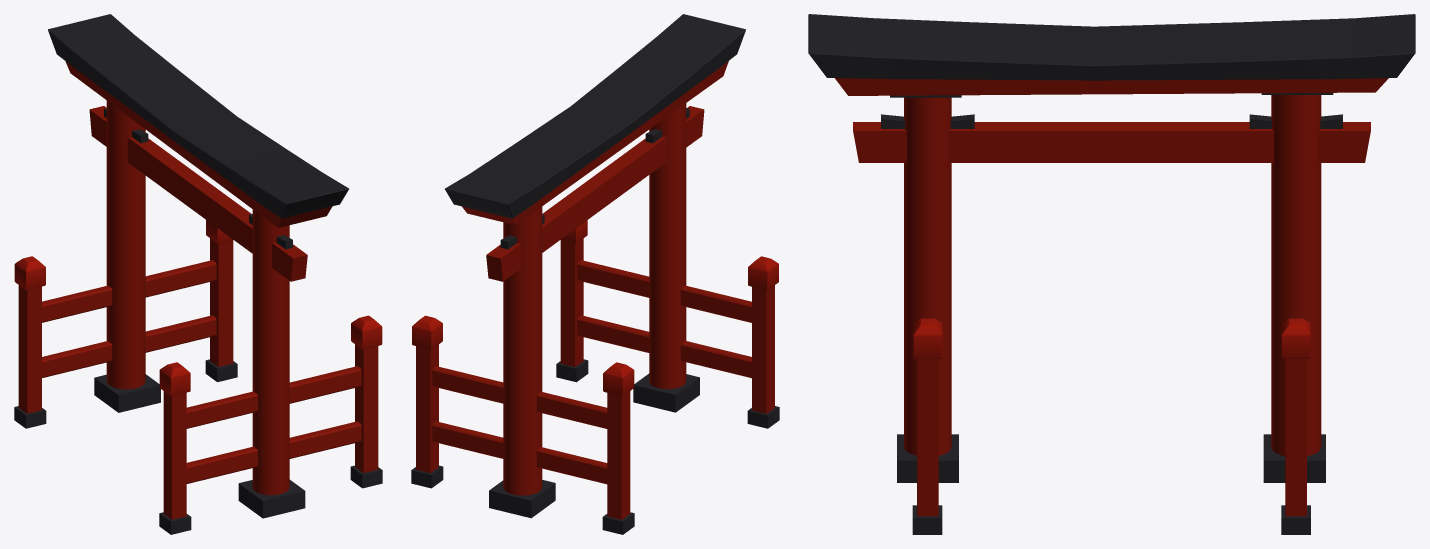
Rendered from arch7.fbx.
3 views of the same model, side by side, from view 1: azimuth 30°, elevation 25°; view 2: azimuth 150°, elevation 25°; view 3: azimuth 270°, elevation 25° (orthographic). The views are drawn at different scales.
Parts seen in each view (by area): view 1: arch7; view 2: arch7; view 3: arch7.
Boxes of the visible parts, box(x1,y1,x2,y2) form: arch7: box(14, 14, 382, 534); arch7: box(411, 14, 779, 534); arch7: box(808, 14, 1415, 534).
Bounding box in the file's own units: 680 × 1054 × 1329.
